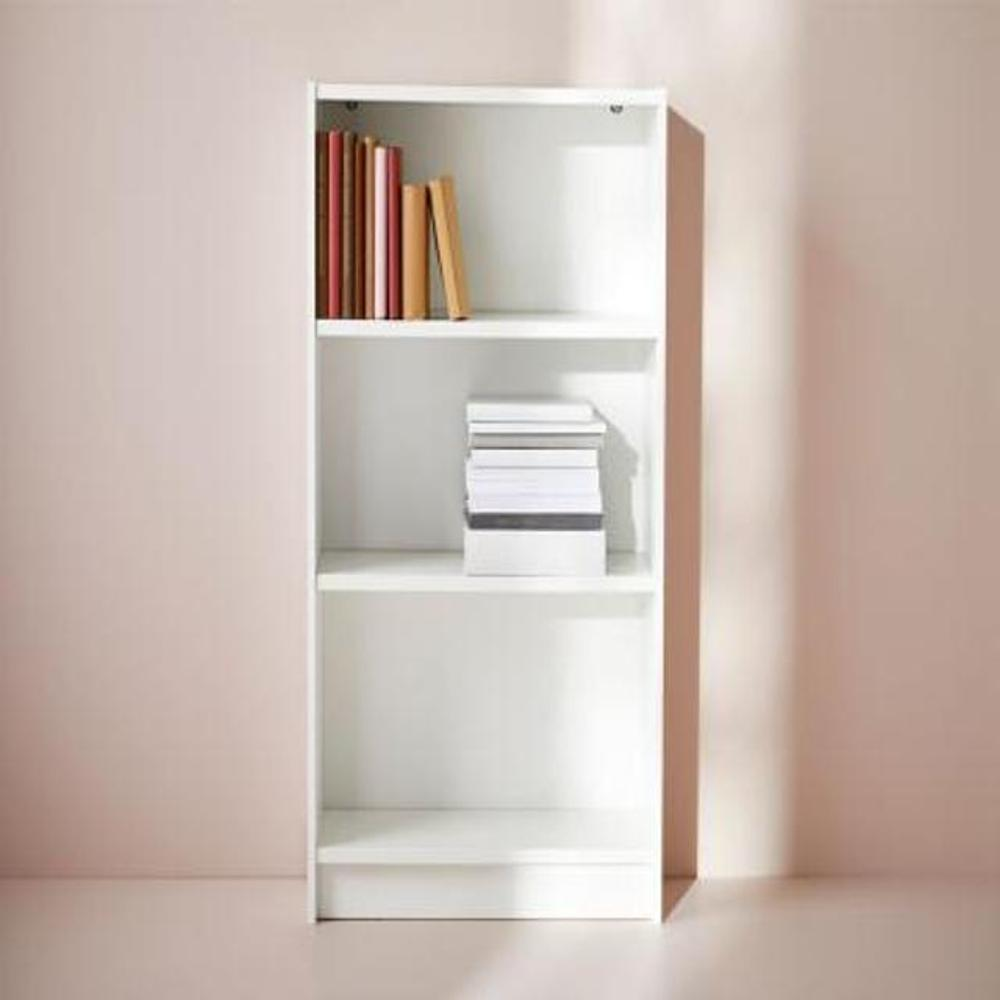lamp: (306, 81, 667, 931)
